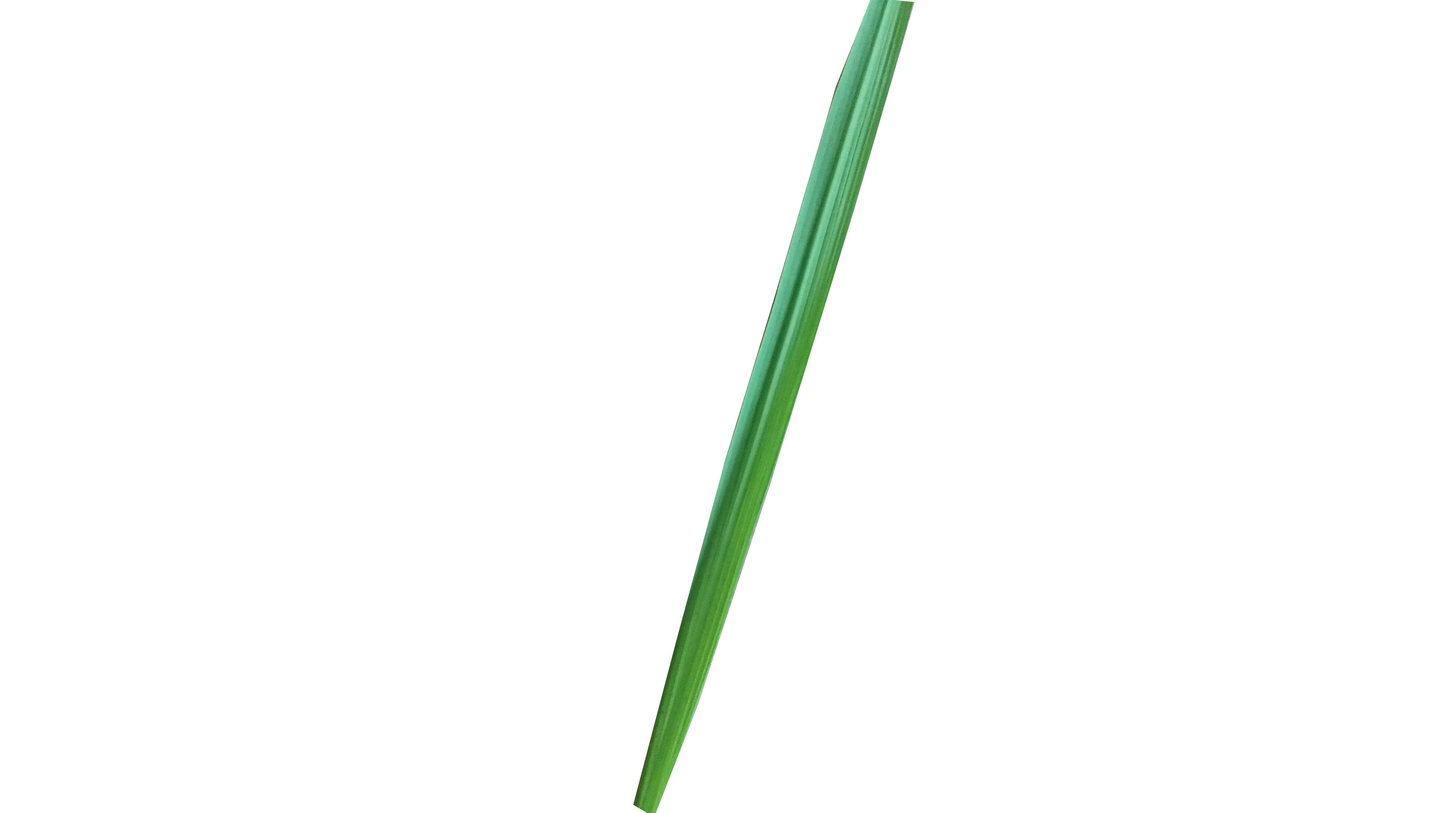Healthy: (629, 0, 918, 813)
